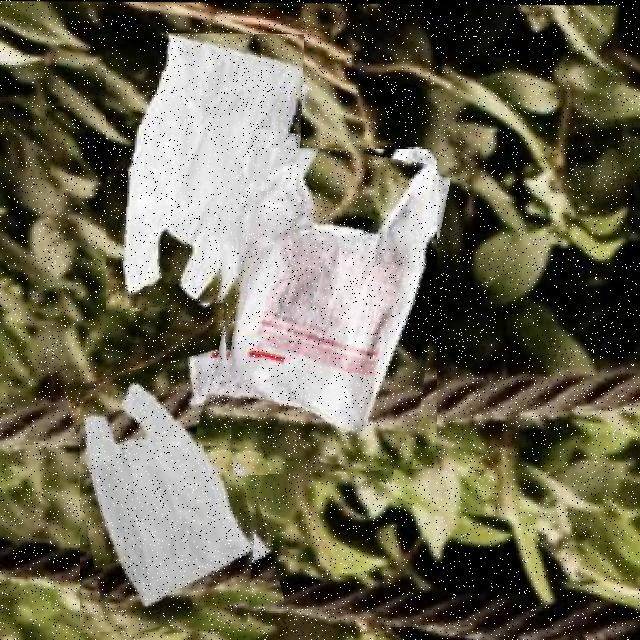plasticcover: (214, 146, 437, 476), (106, 32, 305, 311), (80, 355, 269, 633)
